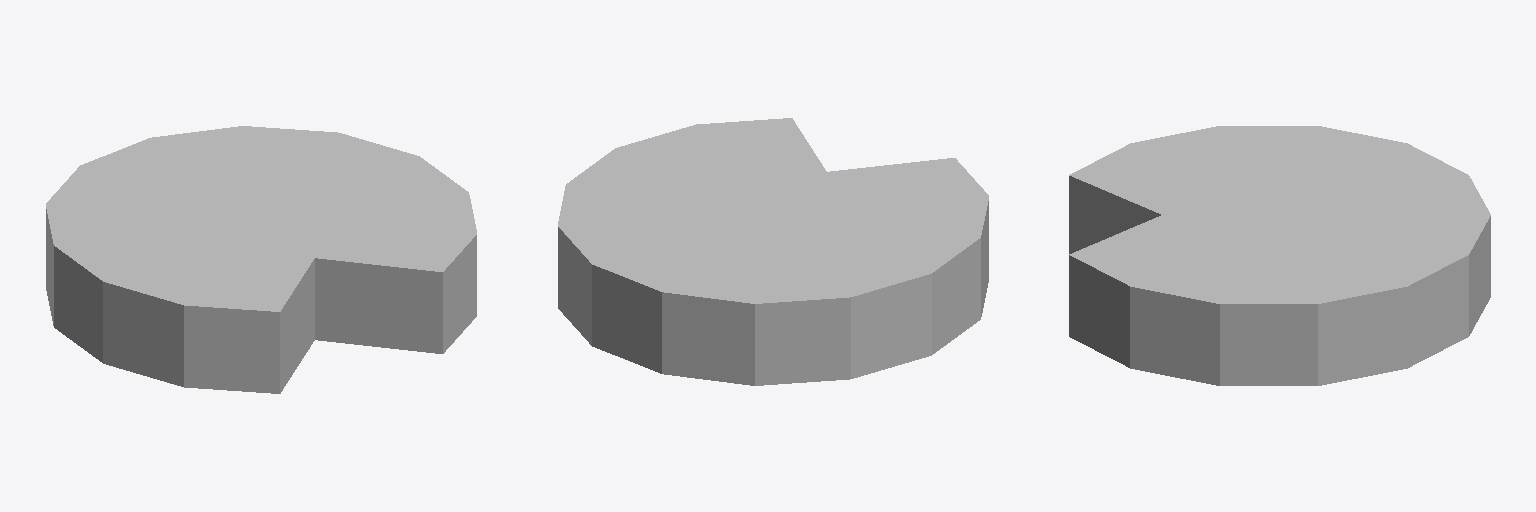
The model's file is leaf.obj.
3 renders of one model, left to right at view 1: azimuth 30°, elevation 25°; view 2: azimuth 150°, elevation 25°; view 3: azimuth 270°, elevation 25°, orthographic.
Parts seen in each view (by area): view 1: Circle; view 2: Circle; view 3: Circle.
Boxes of the visible parts, x1,y1,x2,y2 form: Circle: [46, 126, 476, 393]; Circle: [558, 118, 988, 385]; Circle: [1069, 126, 1490, 385].
Size of the model in its own units: 1.4 by 0.3 by 1.4.